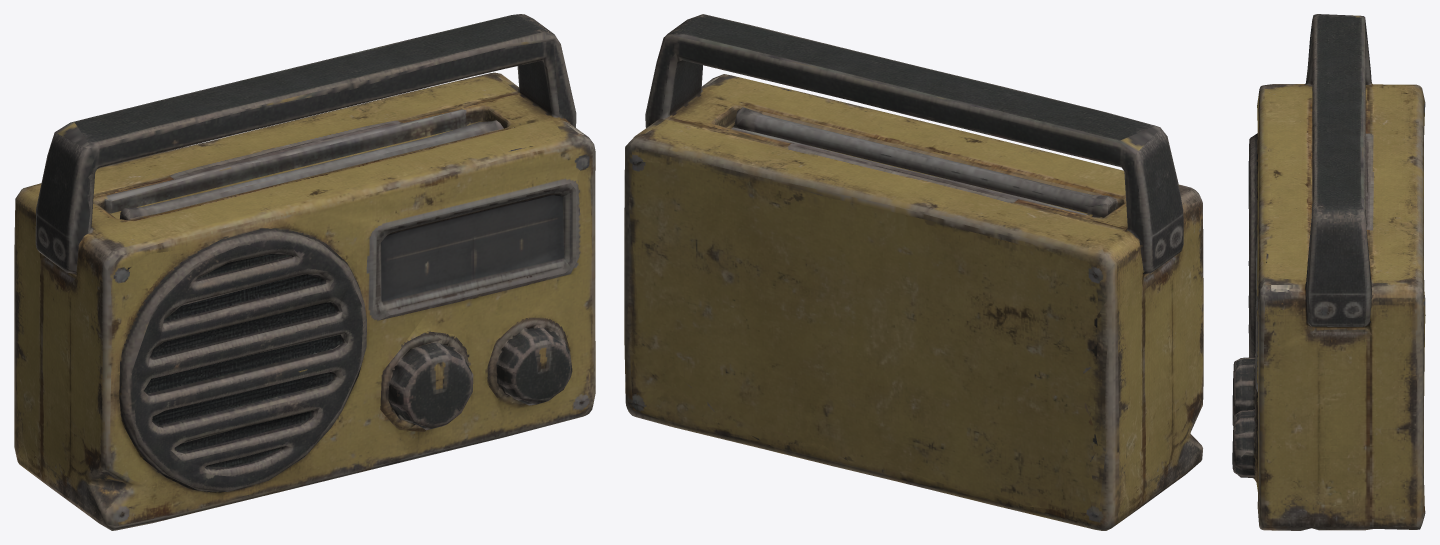
Rendered from broken_shortwave_radio.glb.
The picture shows the model from 3 angles, left to right: view 1: azimuth 30°, elevation 25°; view 2: azimuth 150°, elevation 25°; view 3: azimuth 270°, elevation 25°; orthographic projection. The views are drawn at different scales.
Size of the model in its own units: 0.32 by 0.22 by 0.12.
Materials: 1 (1 with a texture image).
